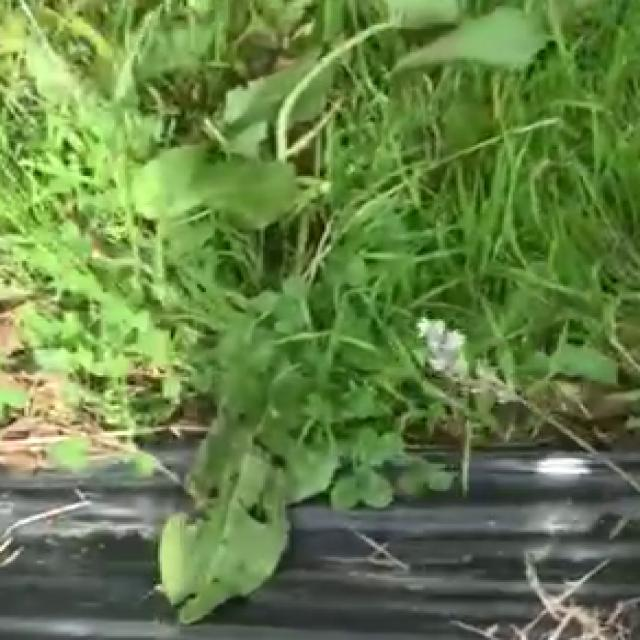organic waste: (42, 0, 570, 247), (59, 286, 401, 640)
